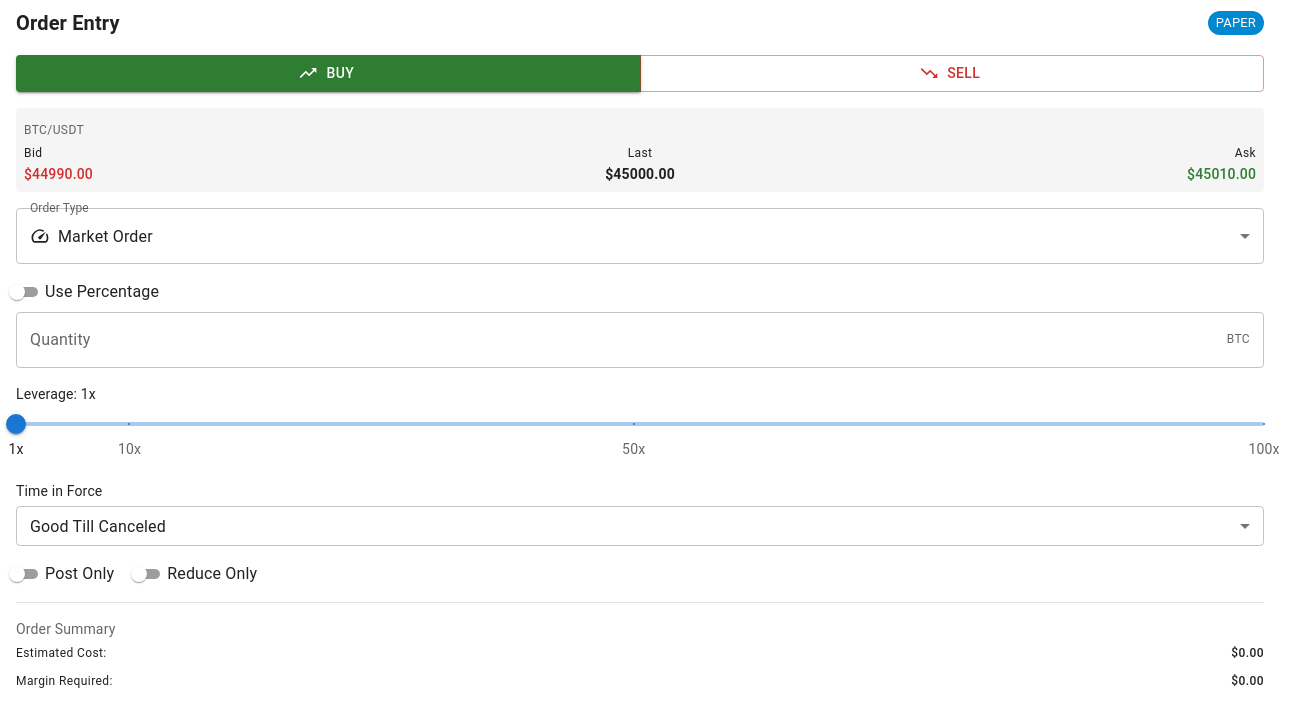
Test case: OrderEntry Component › switches between buy and sell modes
Click the button "Sell".
click(952, 73)  # box top-left (640, 55), bottom-right (1264, 92)
(page scrolled)
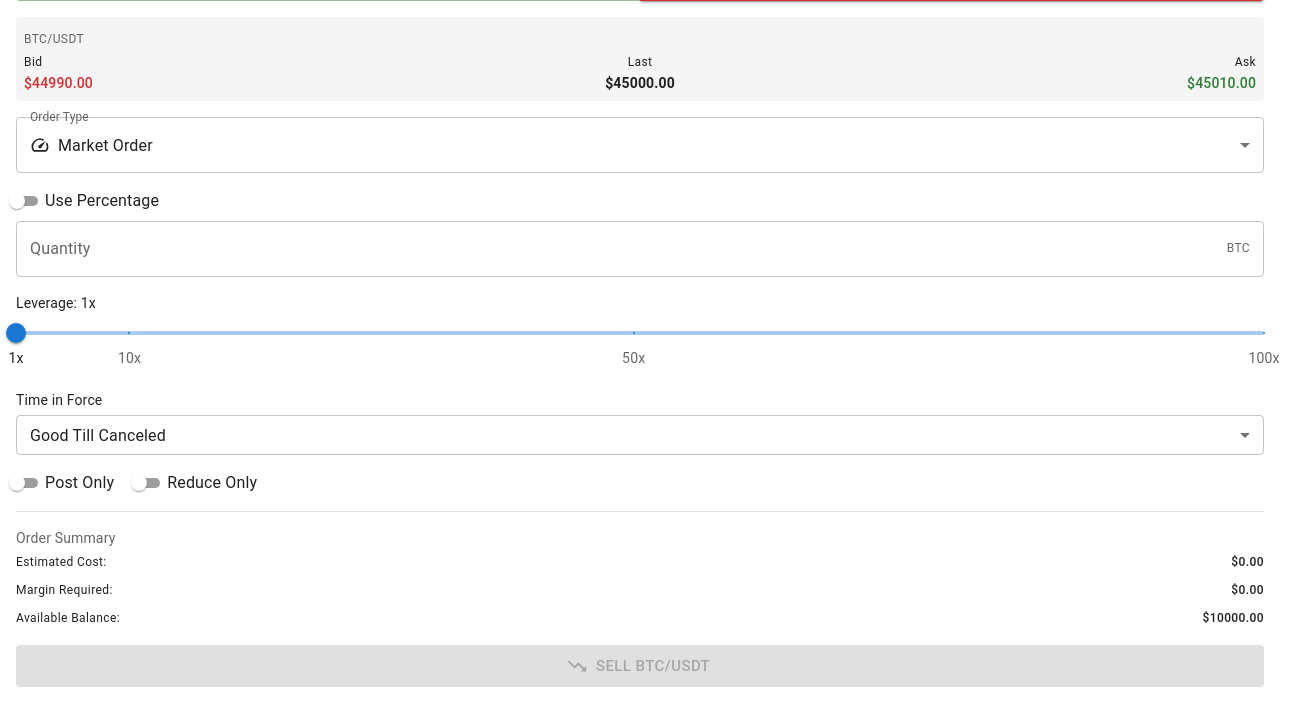
Now the button "SELL BTC/USDT" is shown, box top-left (16, 645), bottom-right (1264, 687)
